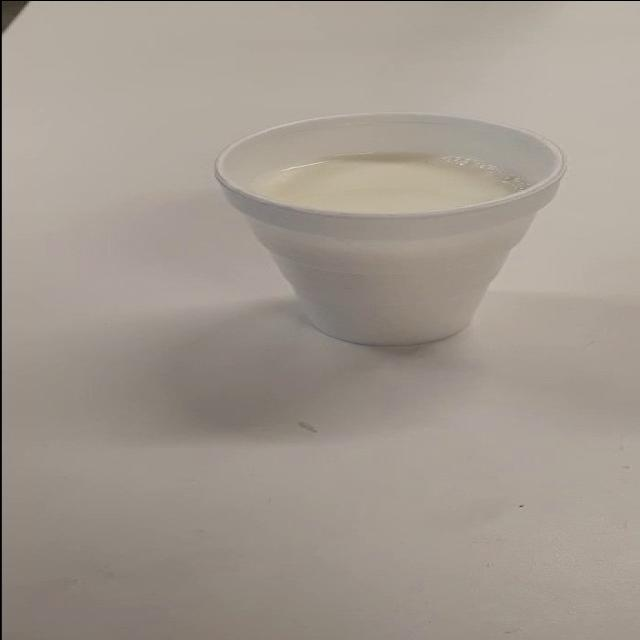Milk: (195, 96, 610, 349)
